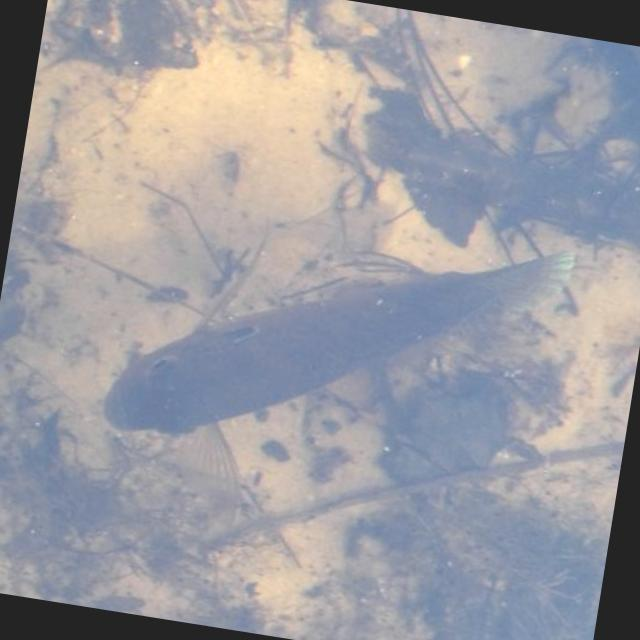Gunes Levregi: (94, 182, 576, 510)
